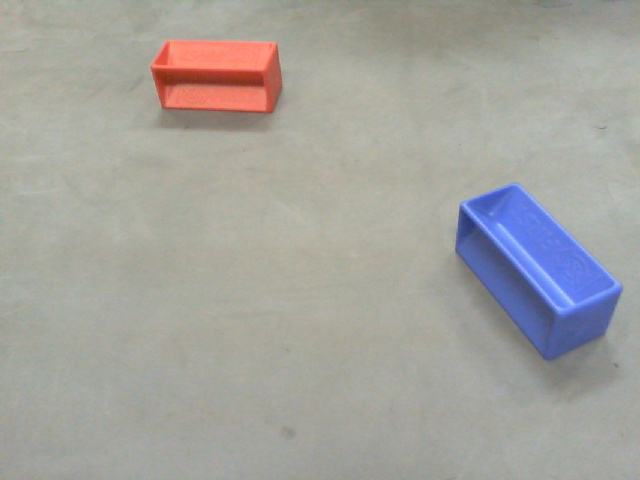BlueSample: (450, 179, 626, 368)
RedSample: (146, 39, 284, 112)
